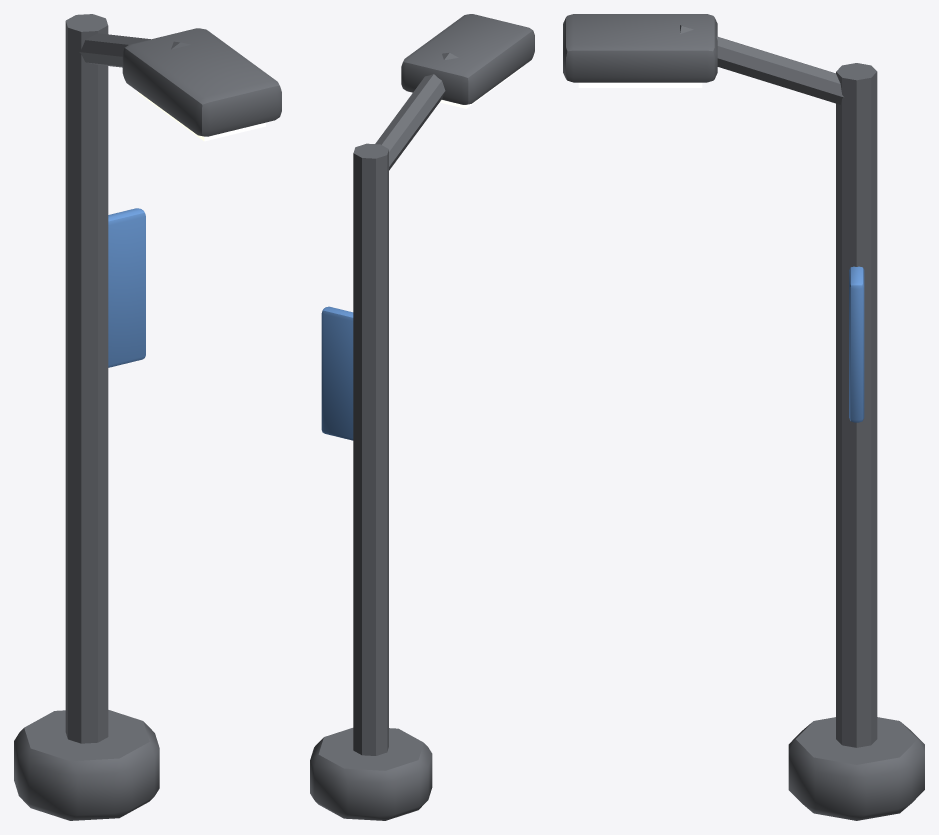
Rendered from street_lamp.glb.
3 renders of one model, left to right at view 1: azimuth 30°, elevation 25°; view 2: azimuth 150°, elevation 25°; view 3: azimuth 270°, elevation 25°, orthographic. The views are drawn at different scales.
Visible parts, largest first — view 1: street_lamp; view 2: street_lamp; view 3: street_lamp.
Part boxes in pixels (box(x1,y1,x2,y2)): street_lamp: box(14, 14, 281, 820); street_lamp: box(310, 14, 534, 820); street_lamp: box(563, 14, 924, 820).
Size of the model in its own units: 0.2647 by 1.65 by 0.7023.
